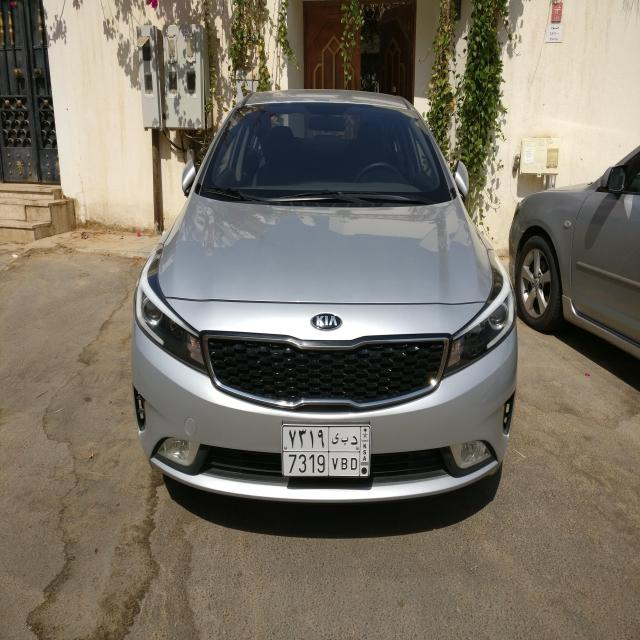license_plate: (282, 424, 371, 478)
